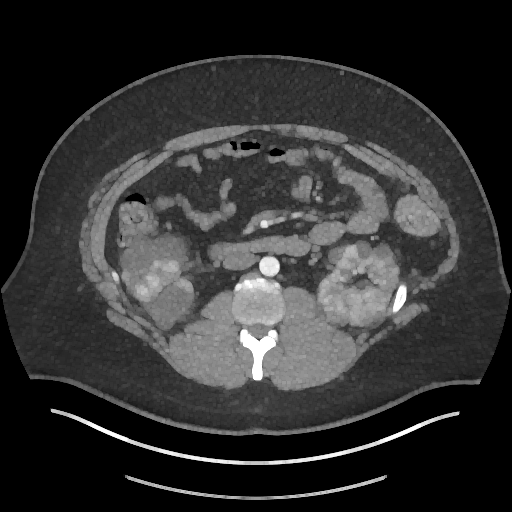Lesion: (132, 273, 164, 300)
